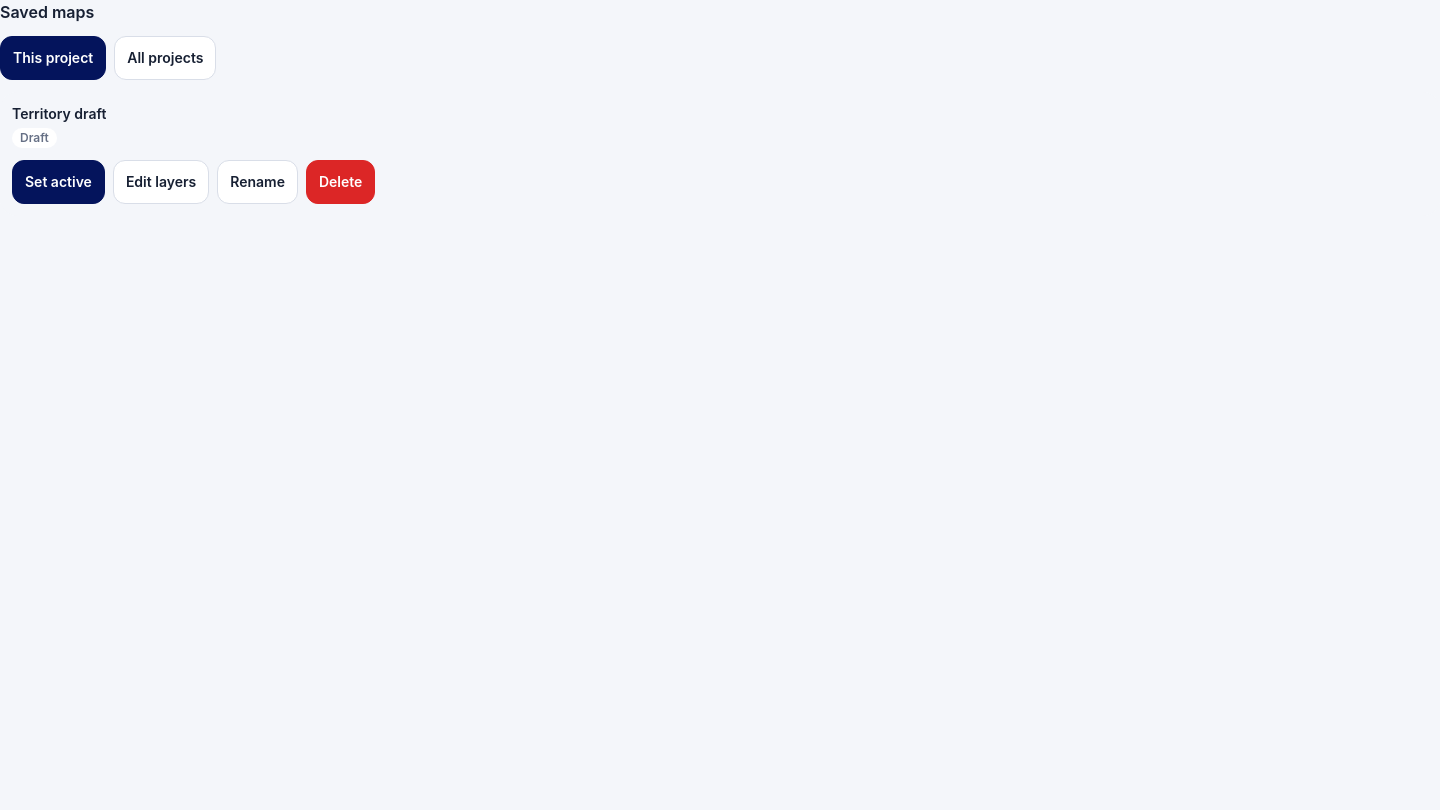
SavedMapsList › clears a stale active-map error when opening the delete dialog
Click the button "Set active" at (58,182), box [12,160,105,204]
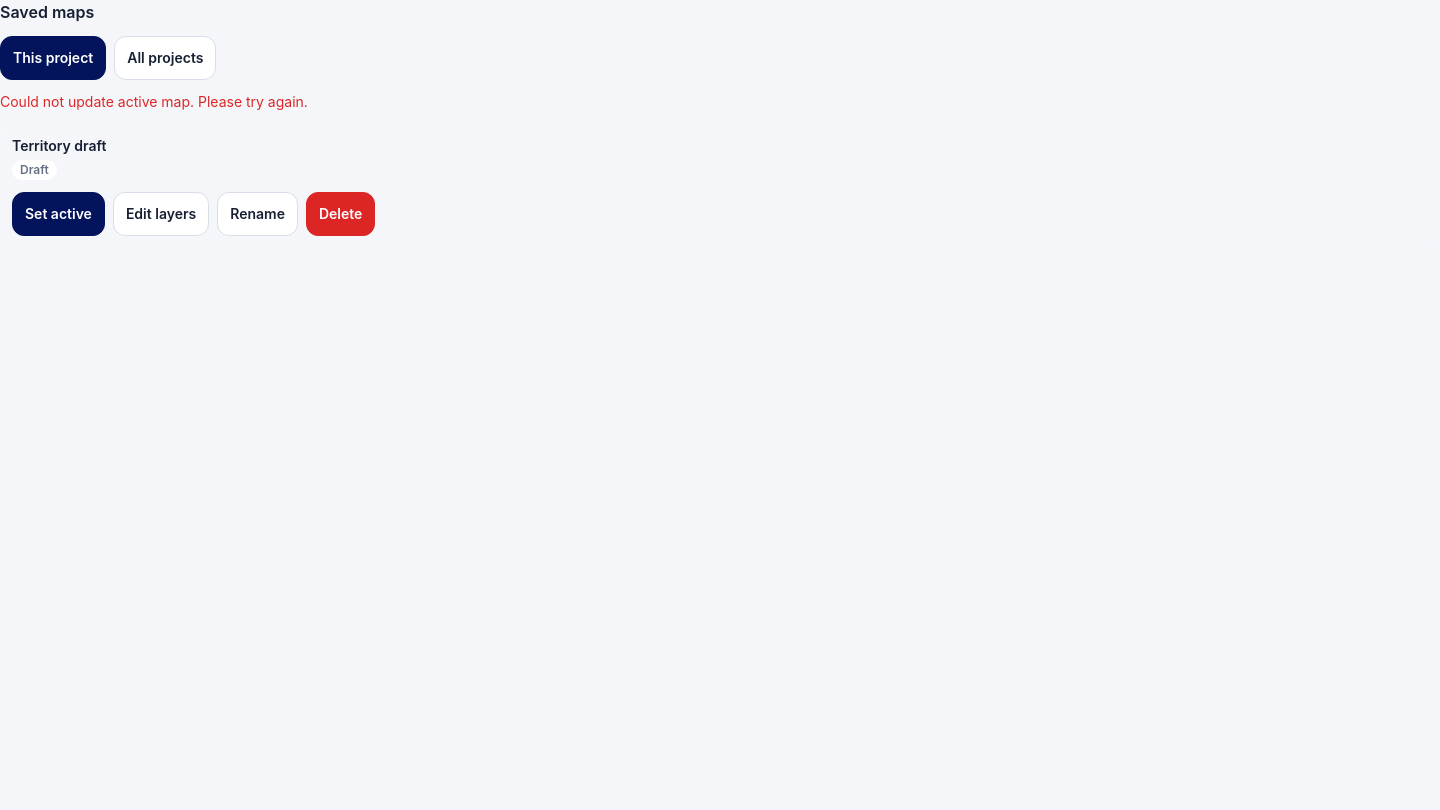
Now the message reads "Could not update active map. Please try again.", box [0,93,308,110]
Click the button "Delete" at (341,214), box [306,192,375,236]
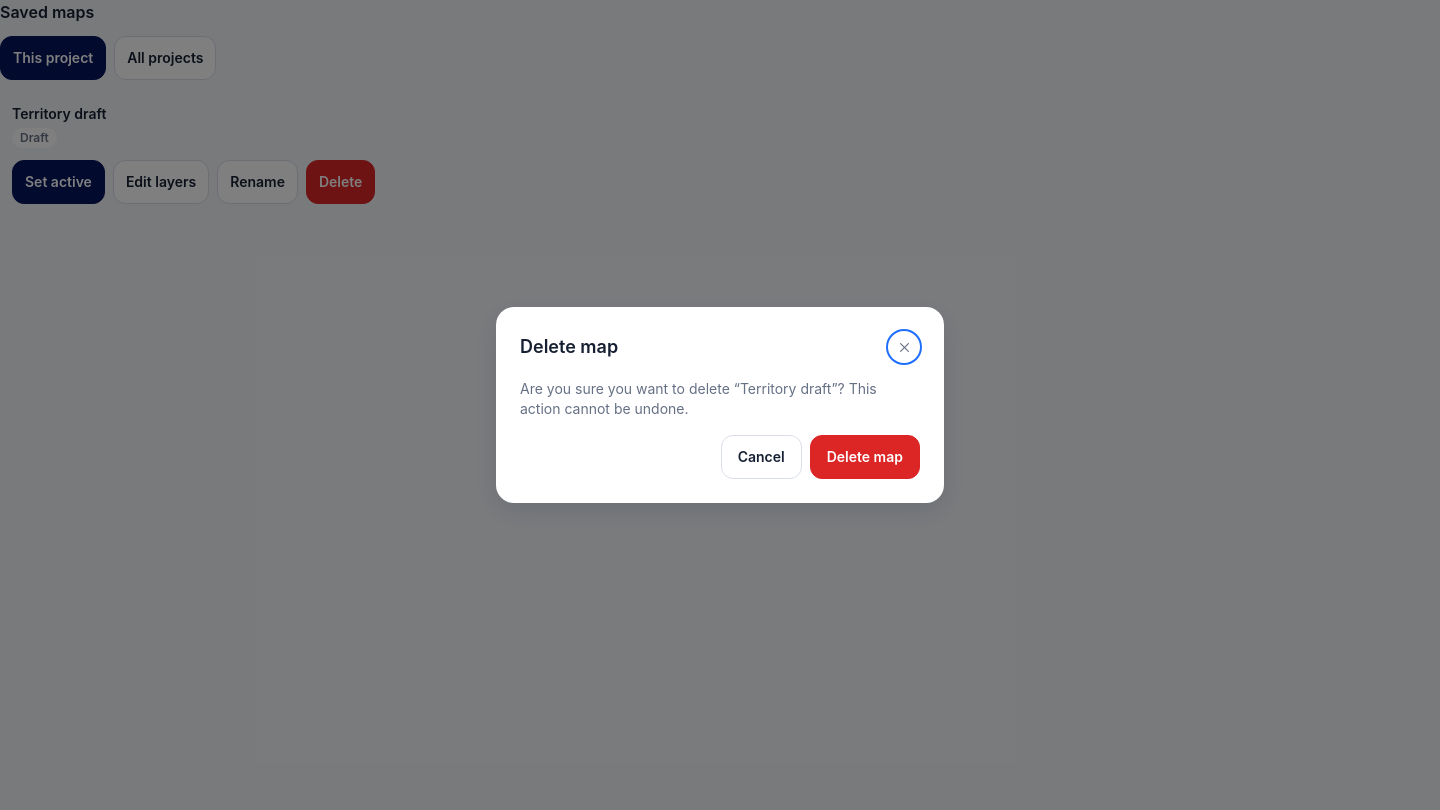
Now the dialog "Delete map" is shown, box [496,307,944,503]
Now the text "Could not update active map. Please try again." is gone
